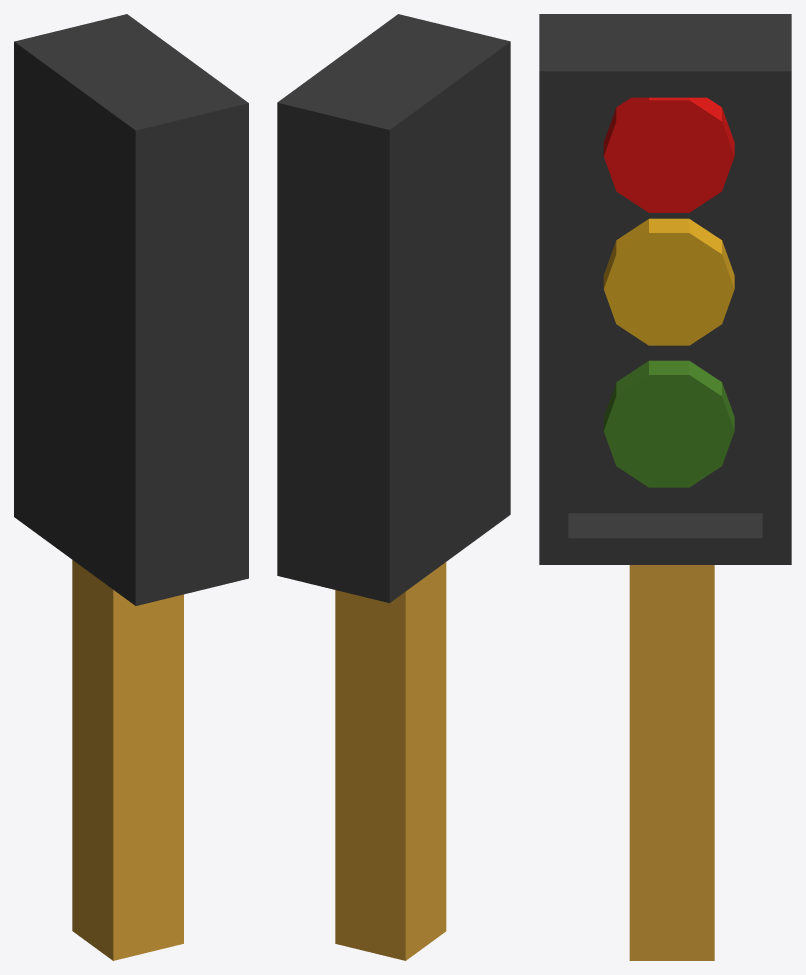
The model's file is StreetLight.fbx.
3 views of the same model, side by side, from view 1: azimuth 30°, elevation 25°; view 2: azimuth 150°, elevation 25°; view 3: azimuth 270°, elevation 25° (orthographic). The views are drawn at different scales.
Parts seen in each view (by area): view 1: StreetLight; view 2: StreetLight; view 3: StreetLight.
Part boxes in pixels (bbox=[...]): StreetLight: bbox=[14, 14, 248, 960]; StreetLight: bbox=[277, 14, 510, 960]; StreetLight: bbox=[539, 14, 791, 960].
Size of the model in its own units: 16.44 by 121 by 30.66.
